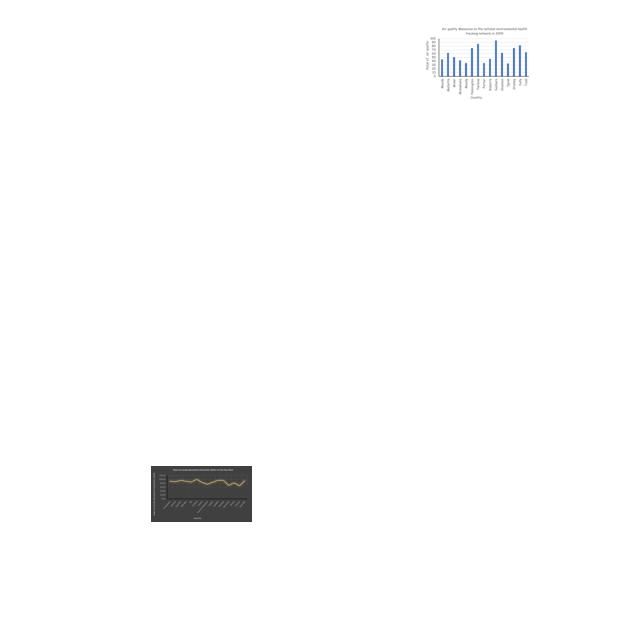Graph: (423, 25, 531, 101), (151, 466, 252, 522)
